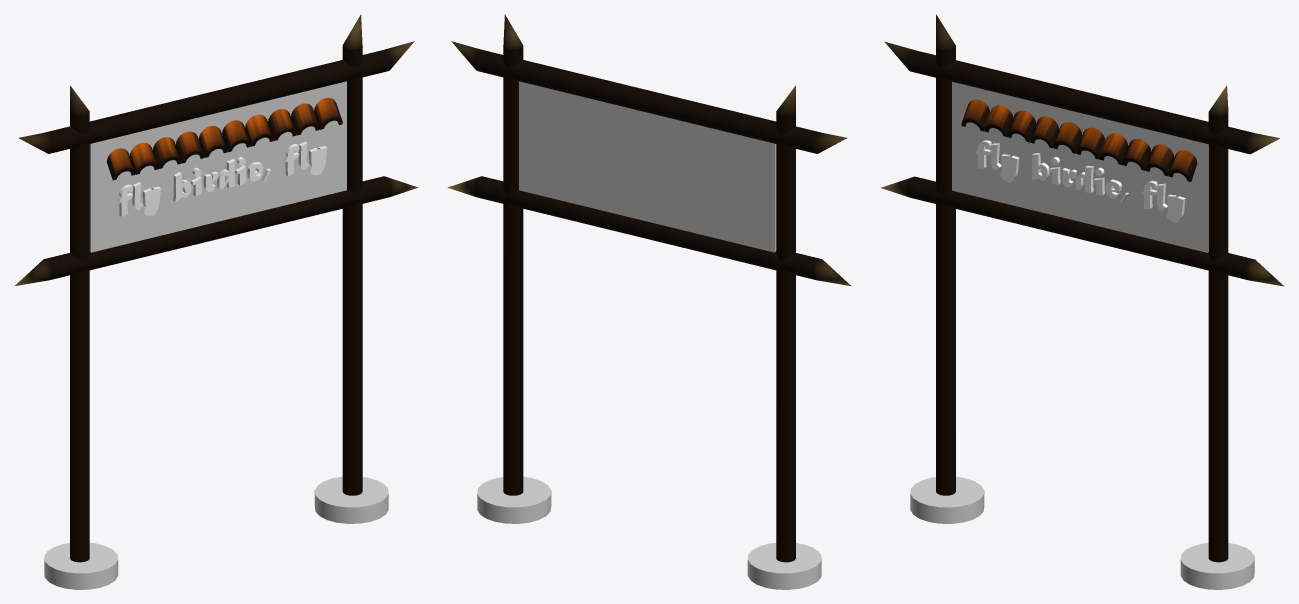
File: stand 1.fbx
3 renders of one model, left to right at view 1: azimuth 30°, elevation 25°; view 2: azimuth 150°, elevation 25°; view 3: azimuth 330°, elevation 25°, orthographic.
Parts seen in each view (by area): view 1: pCube1, pCylinder1, pCylinder2, pCylinder4, pCylinder3, pPipe8, text, pCylinder6, pCylinder5; view 2: pCube1, pCylinder1, pCylinder2, pCylinder4, pCylinder3, pCylinder6, pCylinder5; view 3: pCube1, pCylinder2, pCylinder1, pCylinder4, pCylinder3, pPipe8, text, pCylinder5, pCylinder6.
Boxes of the visible parts, left/top/right/bottom form: pCube1: left=89, top=81, right=346, bottom=252; pCylinder1: left=70, top=85, right=89, bottom=562; pCylinder2: left=342, top=14, right=362, bottom=495; pCylinder4: left=19, top=41, right=414, bottom=153; pCylinder3: left=14, top=176, right=418, bottom=286; pPipe8: left=107, top=97, right=342, bottom=180; text: left=116, top=141, right=327, bottom=216; pCylinder6: left=314, top=476, right=388, bottom=523; pCylinder5: left=44, top=542, right=118, bottom=589; pCube1: left=519, top=81, right=776, bottom=252; pCylinder1: left=776, top=85, right=795, bottom=562; pCylinder2: left=503, top=14, right=523, bottom=495; pCylinder4: left=451, top=41, right=846, bottom=153; pCylinder3: left=447, top=176, right=851, bottom=286; pCylinder6: left=477, top=476, right=551, bottom=523; pCylinder5: left=747, top=542, right=821, bottom=589; pCube1: left=952, top=81, right=1208, bottom=252; pCylinder2: left=1208, top=85, right=1228, bottom=562; pCylinder1: left=936, top=14, right=955, bottom=495; pCylinder4: left=884, top=41, right=1279, bottom=154; pCylinder3: left=881, top=176, right=1284, bottom=286; pPipe8: left=961, top=99, right=1197, bottom=181; text: left=975, top=140, right=1185, bottom=223; pCylinder5: left=910, top=476, right=984, bottom=523; pCylinder6: left=1180, top=543, right=1254, bottom=589.
Size of the model in its own units: 12.41 by 14.43 by 1.98.
